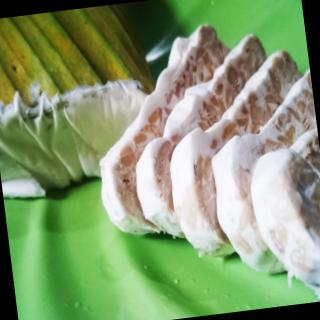Tempe: (83, 21, 254, 248), (201, 67, 320, 283), (1, 70, 161, 201), (244, 133, 320, 307)
